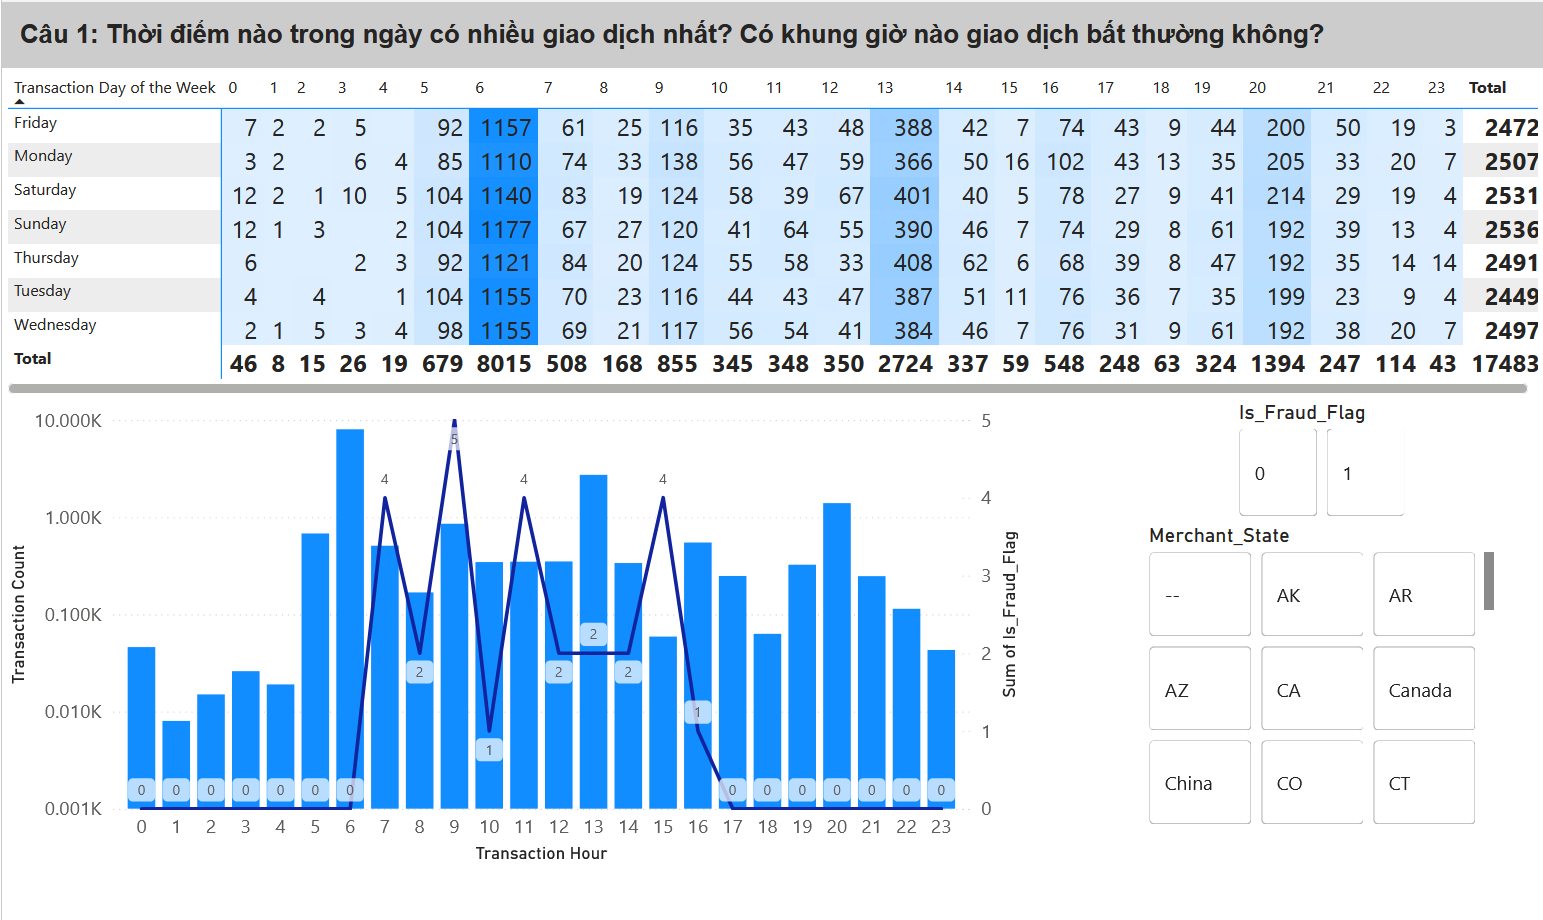

What the dashboard file says about the page in this screenshot:
{"tool":"powerbi","page":{"name":"Câu 1","canvas":[1280,720],"ordinal":0},"visuals":[{"type":"textbox","title":"Câu 1: Thời điểm nào trong ngày có nhiều giao dịch nhất? Có khung giờ nào giao dịch bất thường không?","box":[0,0,1280.2,54.6],"z":0},{"type":"pivotTable","fields":{"Rows":["v_credit_card.Transaction Day of the Week"],"Columns":["v_credit_card.Transaction Hour"],"Values":["v_credit_card.Transaction Count"]},"box":[0,54.6,1280.2,275.6],"z":1000},{"type":"lineStackedColumnComboChart","fields":{"Category":["v_credit_card.Transaction Hour"],"Y":["v_credit_card.Transaction Count"],"Y2":["Sum(v_credit_card.Is_Fraud_Flag)"]},"box":[0,330.2,848.8,389.5],"z":2000},{"type":"advancedSlicerVisual","fields":{"Values":["v_credit_card.Is_Fraud_Flag"]},"box":[1022.1,330.2,148.8,102.3],"z":3000},{"type":"advancedSlicerVisual","fields":{"Values":["v_credit_card.Merchant_State"]},"box":[947.7,432.6,296.5,255.8],"z":4000}]}

Visuals, with their boxes on the page's 1280x720 design canvas (x1, y1, x2, y2). These are canvas units, not pixel positions in the 1543x920 screenshot, which may show the page scaled, cropped or inside an application window:
"Câu 1: Thời điểm nào trong ngày có nhiều giao dịch nhất? Có khung giờ nào giao dịch bất thường không?" textbox: pyautogui.locateOnScreen(0, 0, 1280, 55)
pivotTable - v_credit_card.Transaction Day of the Week x v_credit_card.Transaction Hour: pyautogui.locateOnScreen(0, 55, 1280, 330)
lineStackedColumnComboChart - v_credit_card.Transaction Hour x v_credit_card.Transaction Count: pyautogui.locateOnScreen(0, 330, 849, 720)
advancedSlicerVisual - v_credit_card.Is_Fraud_Flag: pyautogui.locateOnScreen(1022, 330, 1171, 432)
advancedSlicerVisual - v_credit_card.Merchant_State: pyautogui.locateOnScreen(948, 433, 1244, 688)
